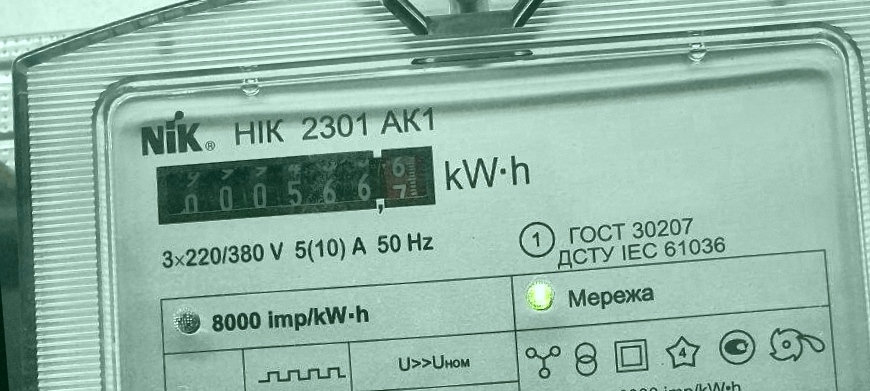0: (249, 180, 270, 210), (215, 181, 235, 212), (180, 189, 201, 214)
5: (284, 177, 305, 207)
6: (353, 169, 374, 202), (317, 175, 338, 205), (390, 154, 408, 180)
7: (391, 182, 408, 201)
9: (182, 167, 202, 188)
screen: (144, 136, 442, 235)
